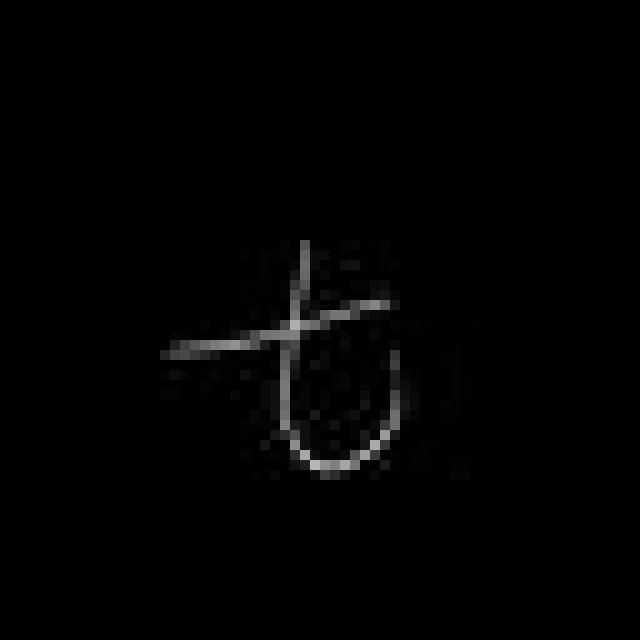7 -seven-: (153, 229, 414, 486)
